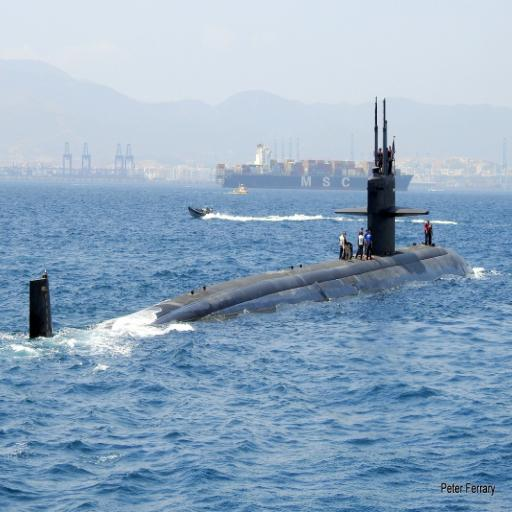submarine: (30, 100, 475, 338)
